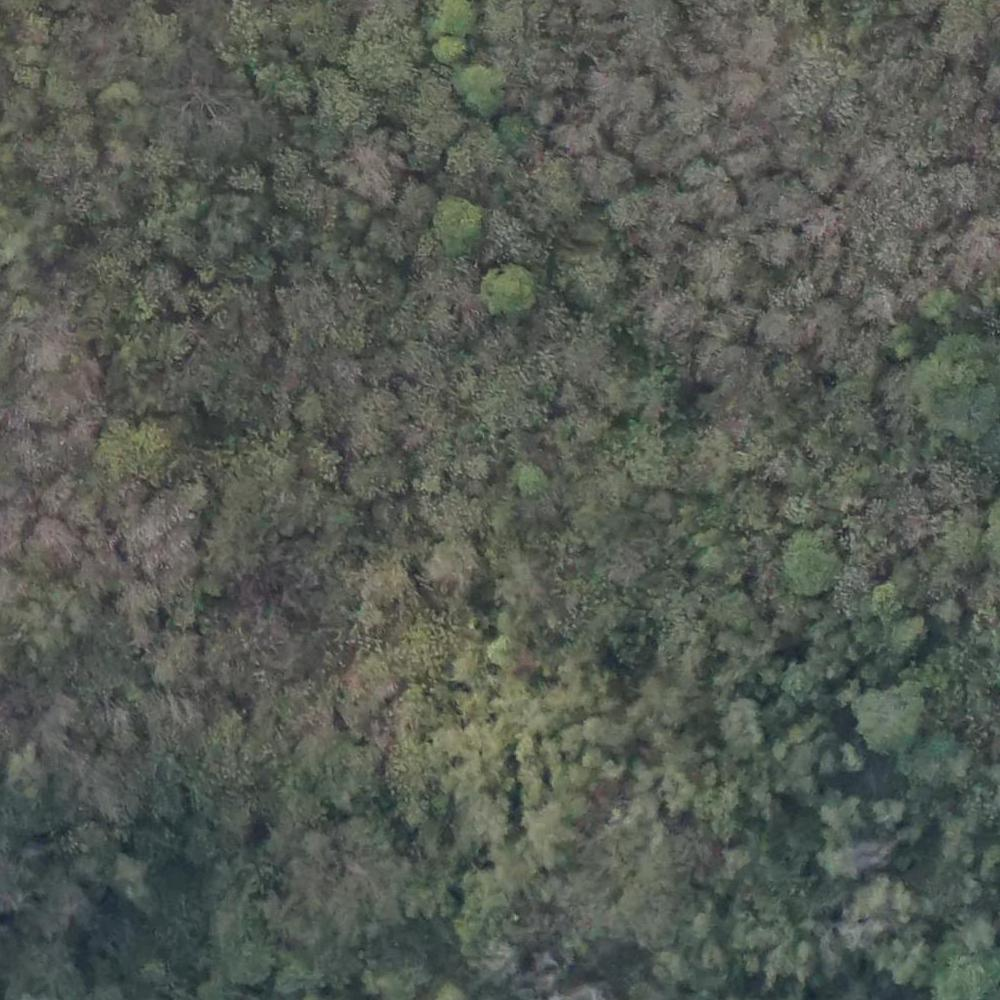tree: (911, 337, 1000, 437), (340, 17, 422, 103), (471, 350, 553, 426), (305, 734, 380, 799), (846, 692, 926, 750), (344, 556, 410, 623), (102, 417, 172, 477), (516, 805, 573, 875), (779, 532, 836, 597), (213, 919, 274, 979), (412, 535, 474, 594), (418, 194, 482, 250), (593, 64, 660, 116), (692, 235, 747, 295), (629, 673, 682, 735), (346, 133, 400, 193), (337, 395, 400, 446), (657, 289, 715, 342), (570, 246, 621, 306), (457, 65, 509, 123), (759, 172, 815, 224), (29, 510, 80, 565), (481, 267, 537, 316), (214, 185, 262, 241), (490, 551, 537, 607), (98, 112, 145, 167), (623, 185, 686, 225), (756, 305, 805, 355), (256, 60, 307, 108), (632, 369, 683, 416), (722, 702, 768, 750), (154, 628, 194, 681), (819, 795, 866, 840), (891, 941, 934, 988), (511, 460, 554, 506), (18, 379, 60, 426), (356, 458, 403, 500), (483, 635, 524, 681), (579, 145, 622, 187), (698, 783, 742, 824), (7, 753, 45, 799), (756, 220, 793, 267), (721, 65, 762, 107), (868, 576, 903, 625), (433, 24, 470, 63), (28, 325, 66, 361), (824, 848, 868, 879), (579, 717, 611, 748), (302, 831, 334, 862), (110, 856, 140, 885), (576, 745, 597, 766)
